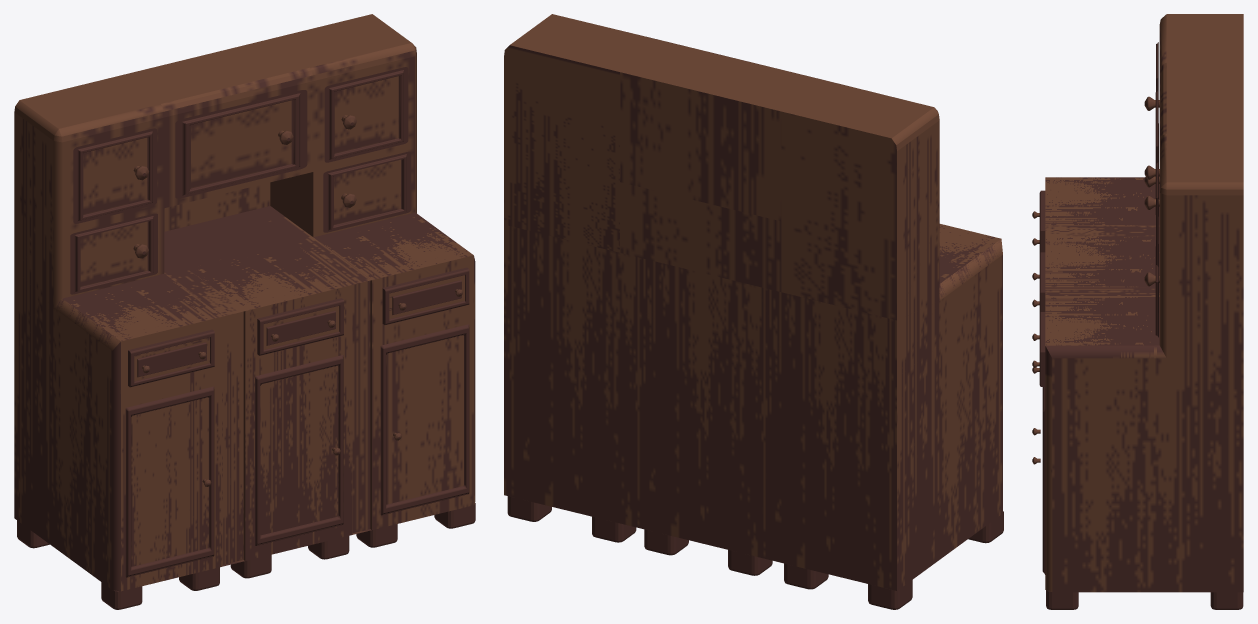
File: aneks.fbx
3 renders of one model, left to right at view 1: azimuth 30°, elevation 25°; view 2: azimuth 150°, elevation 25°; view 3: azimuth 270°, elevation 25°, orthographic. The views are drawn at different scales.
Visible parts, largest first — view 1: Plane.072, Cube.053, Cube.022, Cube.052, Cube.027, Cube.050, Cube.029, Cube.044, Cube.028, Plane.068, Plane.071, Plane.073 (+6 smaller); view 2: Plane.072, Cube.045, Cube.049, Cube.039, Cube.032, Cube.038, Cube.046; view 3: Plane.072, Cube.029, Cube.049, Cube.036, Plane.068, Plane.073, Plane.071, Cube.053, Cube.027, Cube.022.
Part boxes in pixels (<box>): Plane.072: <box>14,14,475,591</box>; Cube.053: <box>175,90,307,198</box>; Cube.022: <box>324,67,408,162</box>; Cube.052: <box>73,128,156,223</box>; Cube.027: <box>323,151,411,232</box>; Cube.050: <box>70,213,157,294</box>; Cube.029: <box>380,319,474,515</box>; Cube.044: <box>125,386,214,577</box>; Cube.028: <box>255,355,343,545</box>; Plane.068: <box>382,267,469,324</box>; Plane.071: <box>257,298,343,355</box>; Plane.073: <box>128,329,214,387</box>; Plane.072: <box>504,14,1002,590</box>; Cube.045: <box>868,580,912,609</box>; Cube.049: <box>507,496,551,521</box>; Cube.039: <box>644,529,688,555</box>; Cube.032: <box>784,563,828,589</box>; Cube.038: <box>728,550,772,575</box>; Cube.046: <box>592,516,636,542</box>; Plane.072: <box>1045,14,1243,592</box>; Cube.029: <box>1042,387,1045,574</box>; Cube.049: <box>1210,592,1243,609</box>; Cube.036: <box>1046,590,1078,609</box>; Plane.068: <box>1039,312,1045,386</box>; Plane.073: <box>1039,190,1045,253</box>; Plane.071: <box>1039,252,1045,313</box>; Cube.053: <box>1155,90,1158,214</box>; Cube.027: <box>1155,244,1158,337</box>; Cube.022: <box>1156,162,1158,266</box>.
Bounding box in the file's own units: 160 × 184 × 82.46.
